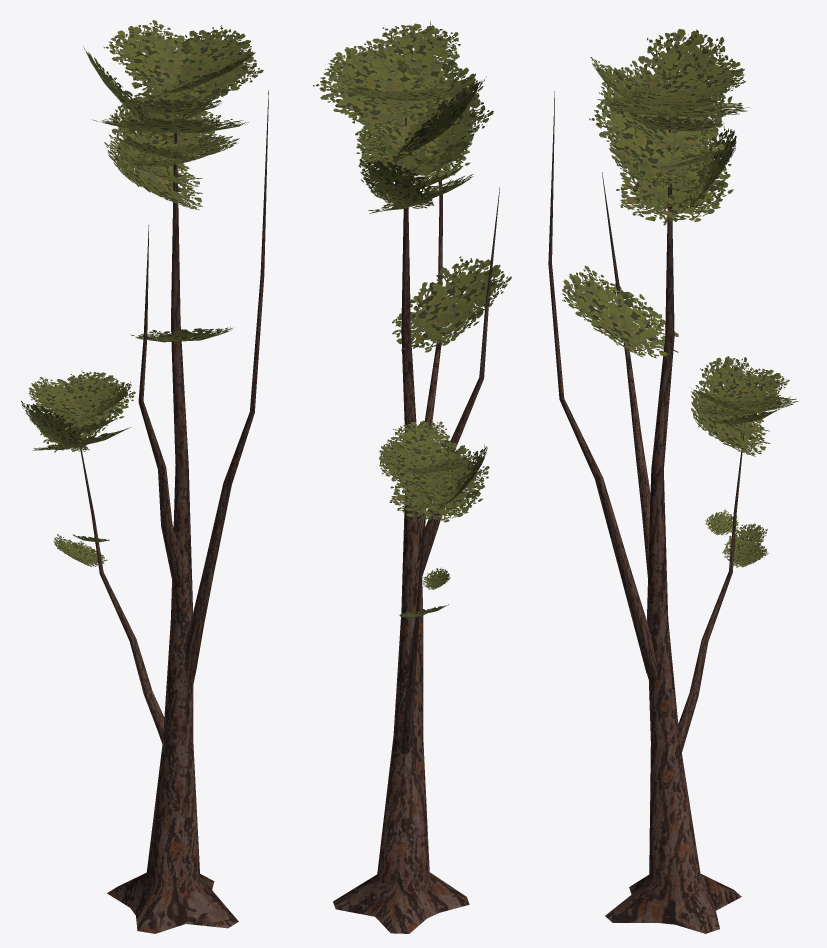
File: tree.fbx
3 renders of one model, left to right at view 1: azimuth 30°, elevation 25°; view 2: azimuth 150°, elevation 25°; view 3: azimuth 270°, elevation 25°, orthographic. The views are drawn at different scales.
Parts seen in each view (by area): view 1: pCylinder1, pPlane19 (×5), pPlane21 (×5), pPlane20 (×4), pCylinder5, pPlane18 (×3), pCylinder6, pCylinder7, pPlane3; view 2: pCylinder1, pPlane21 (×6), pPlane18 (×5), pPlane20 (×4), pPlane19 (×4), pCylinder6, pCylinder7, pCylinder5; view 3: pCylinder1, pPlane19 (×4), pPlane21 (×6), pPlane18 (×4), pPlane20 (×4), pCylinder5, pCylinder6, pCylinder7, pPlane3.
Part boxes in pixels (bbox=[...]): pCylinder1: bbox=[107, 104, 238, 933]; pPlane19 (×5): bbox=[28, 20, 243, 421]; pPlane21 (×5): bbox=[36, 27, 263, 430]; pPlane20 (×4): bbox=[46, 25, 255, 421]; pCylinder5: bbox=[185, 90, 268, 686]; pPlane18 (×3): bbox=[21, 46, 184, 451]; pCylinder6: bbox=[138, 225, 185, 588]; pCylinder7: bbox=[76, 422, 164, 743]; pPlane3: bbox=[53, 534, 99, 566]; pCylinder1: bbox=[333, 110, 469, 933]; pPlane21 (×6): bbox=[313, 43, 493, 522]; pPlane18 (×5): bbox=[359, 23, 487, 512]; pPlane20 (×4): bbox=[325, 40, 483, 509]; pPlane19 (×4): bbox=[342, 81, 511, 352]; pCylinder6: bbox=[417, 187, 499, 575]; pCylinder7: bbox=[399, 508, 426, 754]; pCylinder5: bbox=[420, 21, 442, 537]; pCylinder1: bbox=[605, 116, 741, 933]; pPlane19 (×4): bbox=[562, 53, 789, 416]; pPlane21 (×6): bbox=[589, 72, 798, 456]; pPlane18 (×4): bbox=[590, 29, 761, 435]; pPlane20 (×4): bbox=[599, 60, 769, 437]; pCylinder5: bbox=[548, 91, 657, 691]; pCylinder6: bbox=[602, 172, 650, 577]; pCylinder7: bbox=[678, 414, 745, 752]; pPlane3: bbox=[722, 523, 767, 562].
Size of the model in its own units: 5.37 by 22.52 by 6.31.
2 materials, 2 textured.
